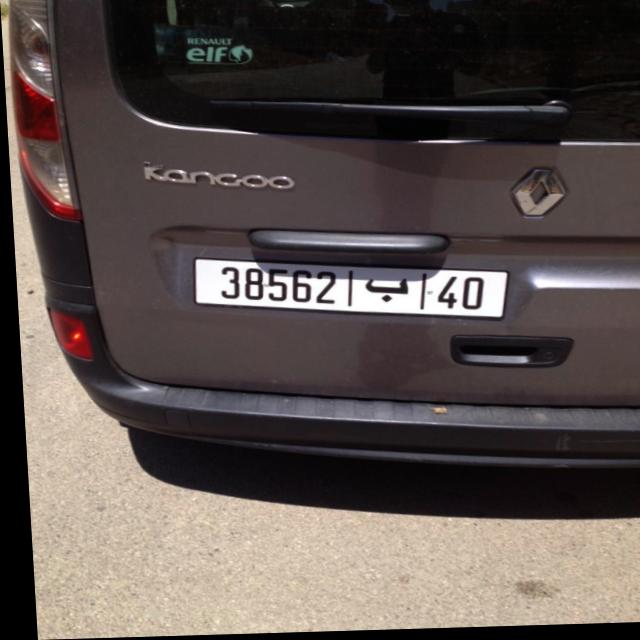License-Plate: (191, 259, 505, 321)
